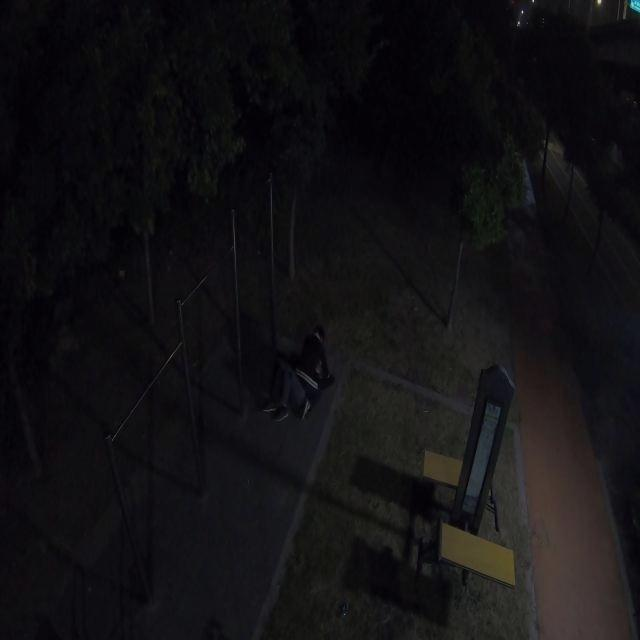fight: (264, 326, 339, 429)
